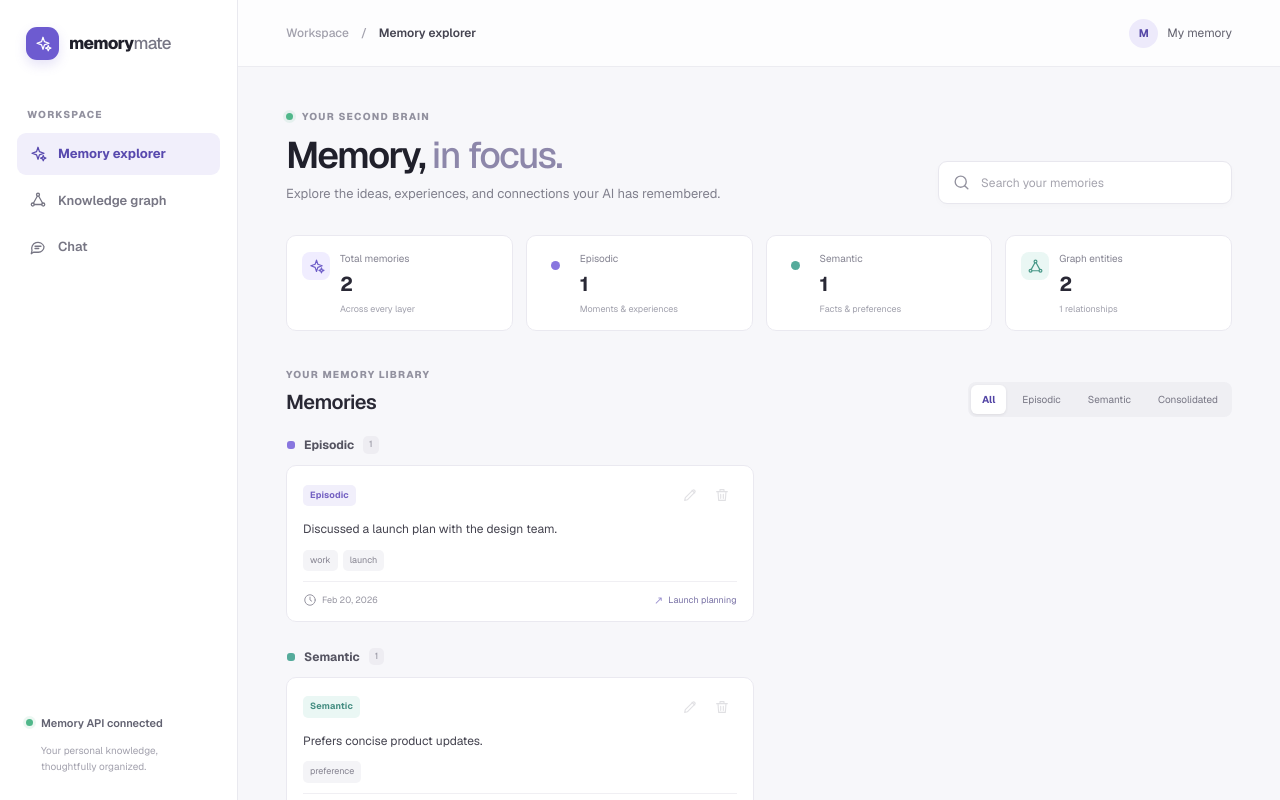
MemoryExplorer › uses backend semantic search and filters the displayed memories
Check: the text "Prefers concise product updates." is shown, box [303,733,482,749]
In the field named "Search memories": [1100, 183] box [981,174,1218,192], type "launch"
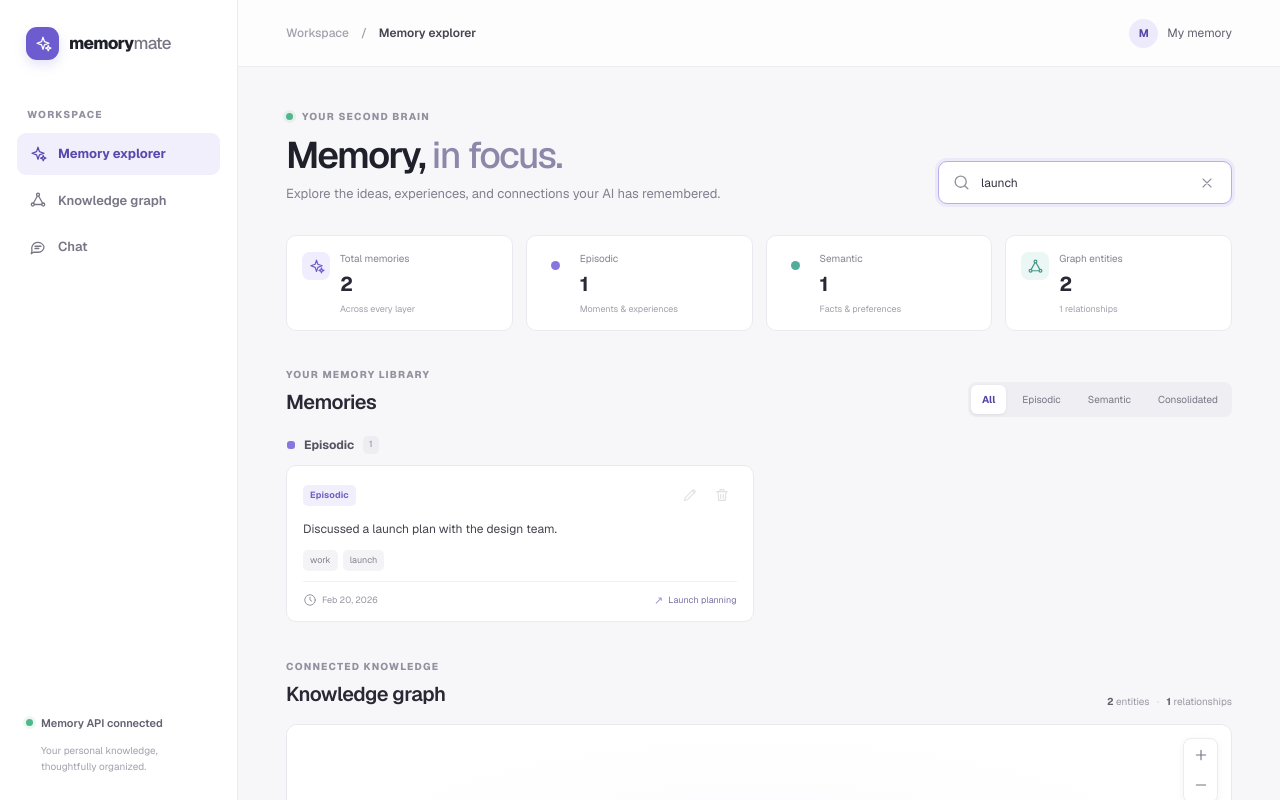
Check: the text "Discussed a launch plan with the design team." is shown, box [303,521,557,537]
Check: the text "Prefers concise product updates." is gone
